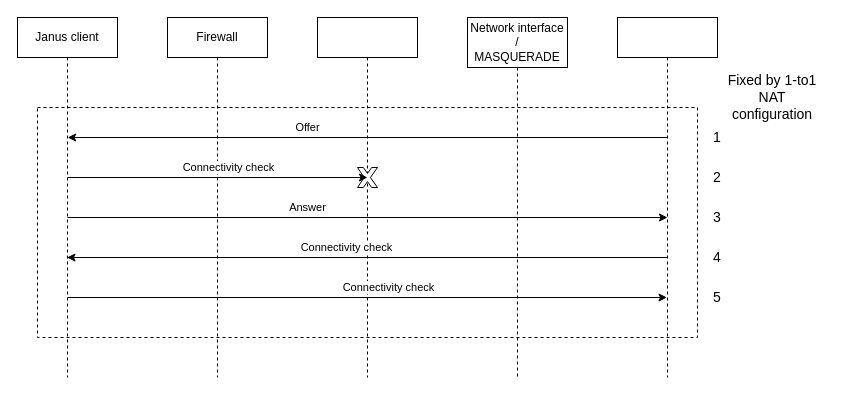
Image size: 845x395. Some labels were removed from this diagram. Here are the shapes that lost their labels. From the top down, the box of each, then its label:
(316, 16, 418, 378): 1-to-1 NAT
(616, 16, 718, 378): Janus gateway
